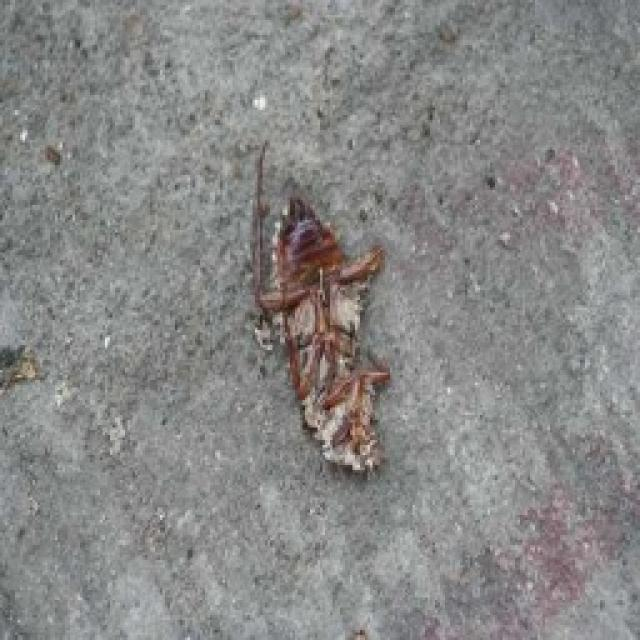cockroach: (246, 138, 396, 479)
